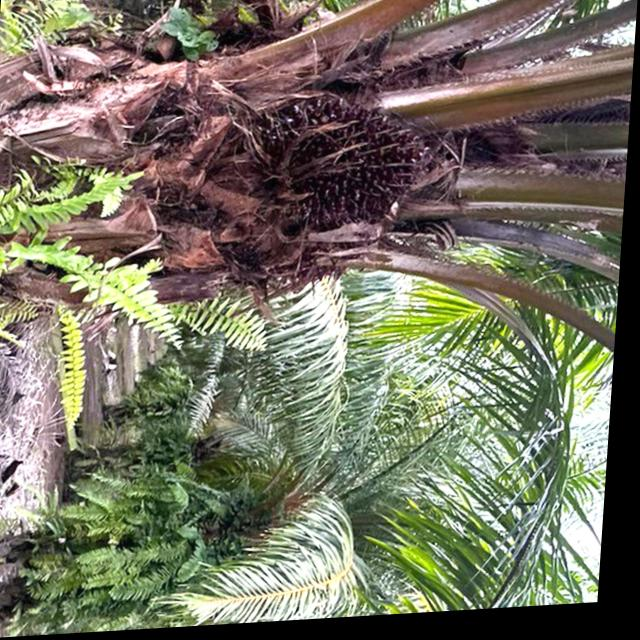ripe: (255, 85, 446, 258)
